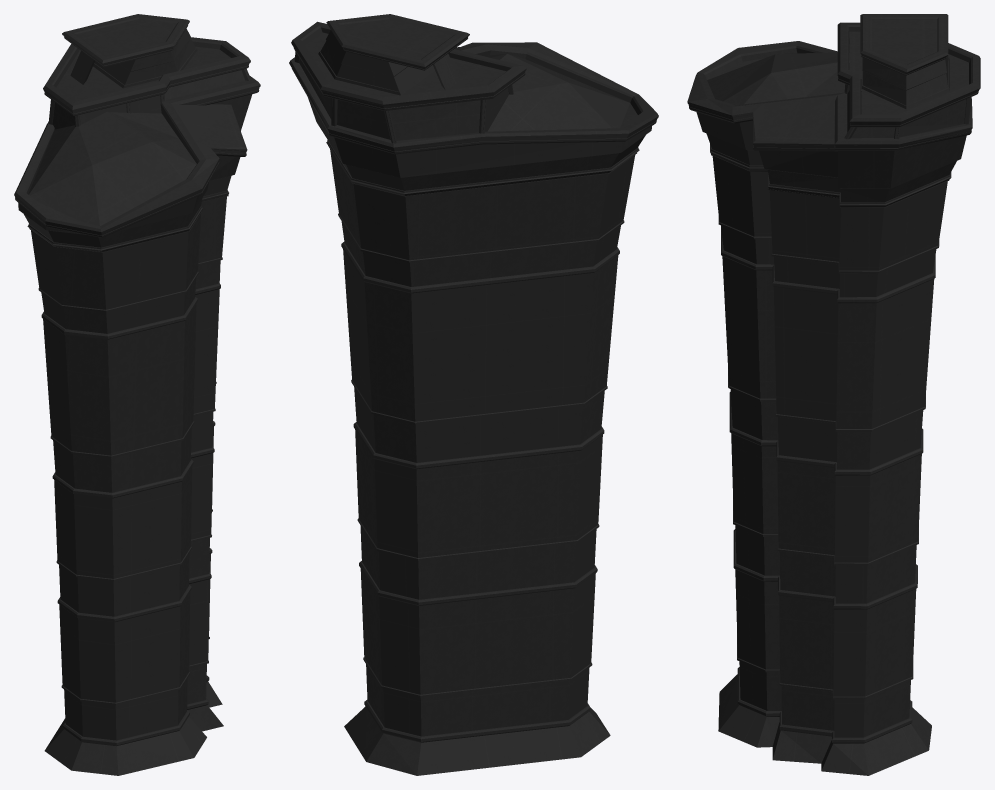
The model's file is bldg_cDo-DO_000.FBX.
3 renders of one model, left to right at view 1: azimuth 30°, elevation 25°; view 2: azimuth 150°, elevation 25°; view 3: azimuth 270°, elevation 25°, orthographic. The views are drawn at different scales.
Visible parts, largest first — view 1: bldg_cDo-DO_00; view 2: bldg_cDo-DO_00; view 3: bldg_cDo-DO_00.
Boxes of the visible parts, bbox=[...] form: bldg_cDo-DO_00: bbox=[14, 14, 260, 775]; bldg_cDo-DO_00: bbox=[289, 14, 658, 775]; bldg_cDo-DO_00: bbox=[687, 14, 980, 775].
Size of the model in its own units: 33.24 by 79.06 by 29.82.
1 material, 1 textured.
